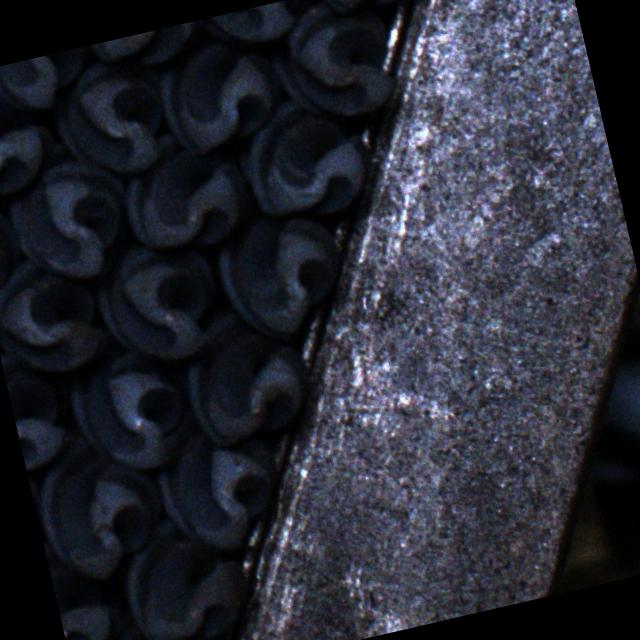tool_b: (24, 424, 172, 590), (169, 292, 314, 452), (0, 129, 137, 289), (112, 117, 261, 263), (209, 198, 354, 348), (228, 86, 374, 230), (148, 416, 290, 561), (110, 502, 256, 640), (87, 227, 225, 373), (61, 338, 200, 481), (256, 0, 404, 132), (45, 50, 182, 189), (151, 35, 287, 159), (0, 245, 116, 385), (0, 340, 77, 471), (0, 63, 62, 204), (42, 530, 121, 640), (0, 44, 105, 120), (82, 608, 216, 640)
